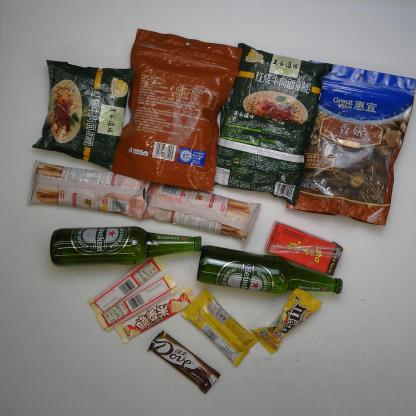Alcohol: (197, 244, 344, 296), (48, 226, 203, 266)
Chocolate: (178, 288, 260, 367), (86, 252, 166, 318), (249, 287, 324, 357), (95, 272, 181, 332), (147, 328, 222, 393), (116, 285, 196, 345)
Dessert: (140, 180, 264, 246), (26, 158, 149, 219)
Dried Food: (112, 26, 244, 194), (285, 58, 415, 226)
Drink: (264, 218, 345, 278)
Instant Noodles: (32, 58, 133, 170), (212, 102, 312, 207), (226, 42, 331, 137)
